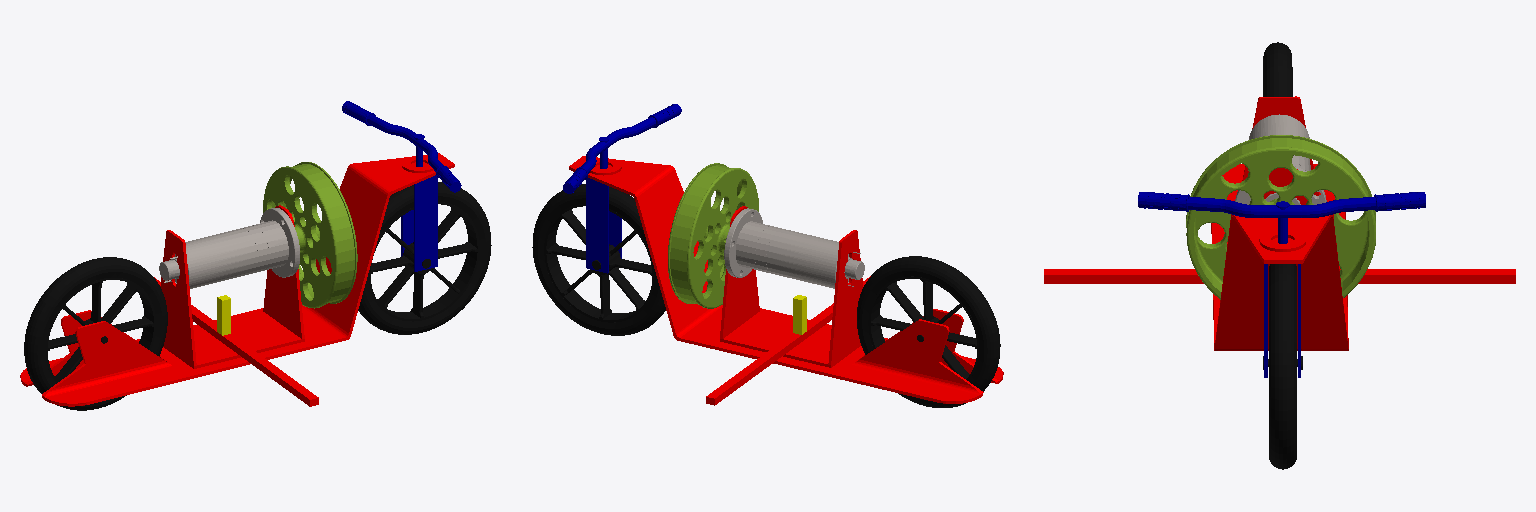
URDF robot description (bike):
<?xml version="1.0" encoding="utf-8"?>
<!-- This URDF was automatically created by SolidWorks to URDF Exporter! Originally created by [author] ([email redacted]) 
     Commit Version: 1.6.0-4-g7f85cfe  Build Version: 1.6.7995.38578
     For more information, please see http://wiki.ros.org/sw_urdf_exporter -->
<robot
  name="bike">
  <link name="base_footprint"/>
  <link
    name="base_link">
    <inertial>
      <origin
        xyz="0.0057072 9.0919E-05 0.020035"
        rpy="0 0 0" />
      <mass
        value="0.200" />
      <inertia
        ixx="0.00041675"
        ixy="-1.315E-05"
        ixz="-0.00030615"
        iyy="0.0016302"
        iyz="-2.99841E-06"
        izz="0.0016089" />
    </inertial>
    <visual>
      <origin
        xyz="0 0 0"
        rpy="0 0 0" />
      <geometry>
        <mesh
          filename="package://self_balancing_bike/meshes/base_link.STL" />
      </geometry>
      <material
        name="">
        <color
          rgba="1 0 0 1" />
      </material>
    </visual>
    <collision>
      <origin
        xyz="0 0 0"
        rpy="0 0 0" />
      <geometry>
        <mesh
          filename="package://self_balancing_bike/meshes/base_link.STL" />
      </geometry>
    </collision>
  </link>

  <joint
    name="base_footprint_joint"
    type="fixed">
    <origin
      xyz="0 0 0.0345"
      rpy="0 0 0" />
    <parent
      link="base_footprint" />
    <child
      link="base_link" />
  </joint>

  <link
    name="imu_link">
    <inertial>
      <origin
        xyz="-3.4694E-18 -1.6193E-05 -0.015"
        rpy="0 0 0" />
      <mass
        value="0.008832" />
      <inertia
        ixx="7.095E-07"
        ixy="-1.4027E-25"
        ixz="1.6502E-39"
        iyy="7.095E-07"
        iyz="1.697E-39"
        izz="9.4208E-08" />
    </inertial>
    <visual>
      <origin
        xyz="0 0 0"
        rpy="0 0 0" />
      <geometry>
        <mesh
          filename="package://self_balancing_bike/meshes/imu_link.STL" />
      </geometry>
      <material
        name="">
        <color
          rgba="0.9 0.9 0 1" />
      </material>
    </visual>
    <collision>
      <origin
        xyz="0 0 0"
        rpy="0 0 0" />
      <geometry>
        <mesh
          filename="package://self_balancing_bike/meshes/imu_link.STL" />
      </geometry>
    </collision>
  </link>
  <joint
    name="imu_joint"
    type="fixed">
    <origin
      xyz="0 0 0.036"
      rpy="0 0 0" />
    <parent
      link="base_link" />
    <child
      link="imu_link" />
    <axis
      xyz="0 0 0" />
  </joint>
  <link
    name="rear_wheel_link">
    <inertial>
      <origin
        xyz="5.7718E-14 6.0024E-13 -1.4024E-14"
        rpy="0 0 0" />
      <mass
        value="0.02475" />
      <inertia
        ixx="0.000028923"
        ixy="-1.546E-18"
        ixz="-3.4005E-16"
        iyy="0.000056923"
        iyz="-8.2688E-18"
        izz="0.000028923" />
    </inertial>
    <visual>
      <origin
        xyz="0 0 0"
        rpy="0 0 0" />
      <geometry>
        <mesh
          filename="package://self_balancing_bike/meshes/rear_wheel_link.STL" />
      </geometry>
      <material
        name="">
        <color
          rgba="0.1 0.1 0.1 1" />
      </material>
    </visual>
    <collision>
      <origin
        xyz="0 0 0"
        rpy="0 0 0" />
      <geometry>
        <mesh
          filename="package://self_balancing_bike/meshes/rear_wheel_link.STL" />
      </geometry>
    </collision>
  </link>
  <joint
    name="rear_wheel_joint"
    type="continuous">
    <origin
      xyz="-0.11568 -0.0010941 0.0325"
      rpy="0 0 0.0097934" />
    <parent
      link="base_link" />
    <child
      link="rear_wheel_link" />
    <axis
      xyz="0 1 0" />
    <limit
      effort="30"
      velocity="10.47" />
    <!-- <dynamics
      damping="0.0001"
      friction="0.0001" /> -->
  </joint>
  <link
    name="handle_link">
    <inertial>
      <origin
        xyz="-0.0050512 -0.00029793 -0.028916"
        rpy="0 0 0" />
      <mass
        value="0.050" />
      <inertia
        ixx="9.23294E-05"
        ixy="1.9030E-09"
        ixz="4.68467E-09"
        iyy="1.4955E-05"
        iyz="1.7224E-10"
        izz="8.0834E-05" />
    </inertial>
    <visual>
      <origin
        xyz="0 0 0"
        rpy="0 0 0" />
      <geometry>
        <mesh
          filename="package://self_balancing_bike/meshes/handle_link.STL" />
      </geometry>
      <material
        name="">
        <color
          rgba="0 0 0.65 1" />
      </material>
    </visual>
    <collision>
      <origin
        xyz="0 0 0"
        rpy="0 0 0" />
      <geometry>
        <mesh
          filename="package://self_balancing_bike/meshes/handle_link.STL" />
      </geometry>
    </collision>
  </link>
  <joint
    name="handle_joint"
    type="revolute">
    <origin
      xyz="0.17612 0.0017637 0.1325"
      rpy="0 0 0" />
    <parent
      link="base_link" />
    <child
      link="handle_link" />
    <axis
      xyz="0 0 -1" />
    <limit
      lower="-1.0472"
      upper="1.0472"
      effort="20"
      velocity="6.28" />
    <!-- <dynamics
      damping="0.0001"
      friction="0.0001" /> -->
  </joint>
  <link
    name="front_wheel_link">
    <inertial>
      <origin
        xyz="5.7593E-14 6.0145E-13 -1.4981E-14"
        rpy="0 0 0" />
      <mass
        value="0.024701" />
      <inertia
        ixx="0.000028917"
        ixy="-1.6813E-18"
        ixz="-3.4026E-16"
        iyy="0.000056923"
        iyz="-8.2388E-18"
        izz="0.000028917" />
    </inertial>
    <visual>
      <origin
        xyz="0 0 0"
        rpy="0 0 0" />
      <geometry>
        <mesh
          filename="package://self_balancing_bike/meshes/front_wheel_link.STL" />
      </geometry>
      <material
        name="">
        <color
          rgba="0.1 0.1 0.1 1" />
      </material>
    </visual>
    <collision>
      <origin
        xyz="0 0 0"
        rpy="0 0 0" />
      <geometry>
        <mesh
          filename="package://self_balancing_bike/meshes/front_wheel_link.STL" />
      </geometry>
    </collision>
  </link>
  <joint
    name="front_wheel_joint"
    type="continuous">
    <origin
      xyz="-0.00022305 -2.5562E-05 -0.1042"
      rpy="0 0 0" />
    <parent
      link="handle_link" />
    <child
      link="front_wheel_link" />
    <axis
      xyz="0 1 0" />
    <!-- <dynamics
      damping="0.00001"
      friction="0.00001" /> -->
  </joint>
  <link
    name="rw_motor_link">
    <inertial>
      <origin
        xyz="-0.012449 -0.00012011 1.0704E-06"
        rpy="0 0 0" />
      <mass
        value="0.025" />
      <inertia
        ixx="4.57925E-06"
        ixy="-1.82495E-07"
        ixz="5.497E-10"
        iyy="2.3277E-05"
        iyz="1.5319E-10"
        izz="2.3278E-05" />
    </inertial>
    <visual>
      <origin
        xyz="0 0 0"
        rpy="0 0 0" />
      <geometry>
        <mesh
          filename="package://self_balancing_bike/meshes/rw_motor_link.STL" />
      </geometry>
      <material
        name="">
        <color
          rgba="0.68627 0.65882 0.63922 1" />
      </material>
    </visual>
    <collision>
      <origin
        xyz="0 0 0"
        rpy="0 0 0" />
      <geometry>
        <mesh
          filename="package://self_balancing_bike/meshes/rw_motor_link.STL" />
      </geometry>
    </collision>
  </link>
  <joint
    name="rw_motor_joint"
    type="fixed">
    <origin
      xyz="0.0196 0.00023076 0.071352"
      rpy="0 0 0" />
    <parent
      link="base_link" />
    <child
      link="rw_motor_link" />
    <axis
      xyz="0 0 0" />
  </joint>
  <link
    name="rw_link">
    <inertial>
      <origin
        xyz="0.005098 4.471E-05 -1.9127E-06"
        rpy="0 0 0" />
      <mass
        value="0.750" />
      <inertia
        ixx="0.0013755"
        ixy="6.44742E-06"
        ixz="-1.61667E-08"
        iyy="0.00071278"
        iyz="9.52164E-09"
        izz="0.00071271" />
    </inertial>
    <visual>
      <origin
        xyz="0 0 0"
        rpy="0 0 0" />
      <geometry>
        <mesh
          filename="package://self_balancing_bike/meshes/rw_link.STL" />
      </geometry>
      <material
        name="">
        <color
          rgba="0.5 0.65 0.2 1" />
      </material>
    </visual>
    <collision>
      <origin
        xyz="0 0 0"
        rpy="0 0 0" />
      <geometry>
        <mesh
          filename="package://self_balancing_bike/meshes/rw_link.STL" />
      </geometry>
    </collision>
  </link>
  <joint
    name="rw_joint"
    type="continuous">
    <origin
      xyz="0.047915 0.00046926 0"
      rpy="0 0 0" />
    <parent
      link="rw_motor_link" />
    <child
      link="rw_link" />
    <axis
      xyz="0.99995 0.0097932 0" />
    <limit
      effort="1000"
      velocity="500" />
    <!-- <dynamics
      damping="0.00001"
      friction="0.00004" /> -->
  </joint>

  <!-- Specifying Material properties for model links -->
  <gazebo reference="base_link">
    <!-- <material>Gazebo/Wood</material> -->
      <!-- <mu1>0.5</mu1>
      <mu2>0.5</mu2>
      <kp>1e5</kp>
      <kd>1e5</kd> -->
    <selfCollide>true</selfCollide>
  </gazebo>

  <gazebo reference="handle_link">
    <material>Gazebo/Black</material>
      <!-- <mu1>0.5</mu1>
      <mu2>0.5</mu2>
      <kp>1e5</kp>
      <kd>1e5</kd> -->
    <selfCollide>true</selfCollide>
  </gazebo>

  <gazebo reference="rw_motor_link">
    <material>Gazebo/Gold</material>
      <!-- <mu1>0.5</mu1>
      <mu2>0.5</mu2>
      <kp>1e5</kp>
      <kd>1e5</kd> -->
    <selfCollide>true</selfCollide>
  </gazebo>

  <gazebo reference="rw_link">
    <material>Gazebo/Residential</material>
      <!-- <mu1>0.5</mu1>
      <mu2>0.5</mu2>
      <kp>1e5</kp>
      <kd>1e5</kd> -->
    <selfCollide>true</selfCollide>
  </gazebo>

  <gazebo reference="rear_wheel_link">
    <material>Gazebo/Grey</material>
      <!-- <mu1>0.5</mu1>
      <mu2>0.5</mu2>
      <kp>1e5</kp>
      <kd>1e5</kd> -->
    <selfCollide>true</selfCollide>
  </gazebo>

  <gazebo reference="front_wheel_link">
    <material>Gazebo/Grey</material>
      <!-- <mu1>0.5</mu1>
      <mu2>0.5</mu2>
      <kp>1e5</kp>
      <kd>1e5</kd> -->
    <selfCollide>true</selfCollide>
  </gazebo>

  <gazebo reference="imu_link">
    <material>Gazebo/Residential</material>
      <!-- <mu1>0.5</mu1>
      <mu2>0.5</mu2>
      <kp>1e5</kp>
      <kd>1e5</kd> -->
    <selfCollide>true</selfCollide>
  </gazebo>

  <!-- Specifying the Tranmission controllers for various joints -->
  <transmission name="rear_wheel_transmission">
      <type>transmission_interface/SimpleTransmission</type>
      <joint name="rear_wheel_joint">
        <hardwareInterface>hardware_interface/VelocityJointInterface</hardwareInterface>
      </joint>
      <actuator name="rear_wheel_motor">
        <hardwareInterface>hardware_interface/VelocityJointInterface</hardwareInterface>
        <mechanicalReduction>1</mechanicalReduction>
      </actuator>
  </transmission>

  <transmission name="rw_transmission">
      <type>transmission_interface/SimpleTransmission</type>
      <joint name="rw_joint">
        <hardwareInterface>hardware_interface/VelocityJointInterface</hardwareInterface>
      </joint>
      <actuator name="rw_motor">
        <hardwareInterface>hardware_interface/VelocityJointInterface</hardwareInterface>
        <mechanicalReduction>1</mechanicalReduction>
      </actuator>
  </transmission>

  <transmission name="handle_transmission">
      <type>transmission_interface/SimpleTransmission</type>
      <joint name="handle_joint">
        <hardwareInterface>hardware_interface/EffortJointInterface</hardwareInterface>
      </joint>
      <actuator name="handle_motor">
        <hardwareInterface>hardware_interface/EffortJointInterface</hardwareInterface>
        <mechanicalReduction>1</mechanicalReduction>
      </actuator>
  </transmission>

  <!-- Specifying Lidar and IMU sensors -->
  <gazebo reference="imu_link">
    <sensor type="imu" name="imu">
      <always_on>true</always_on>
      <visualize>true</visualize>
    </sensor>
    <material>Gazebo/FlatBlack</material>
  </gazebo>

  <gazebo>
    <plugin name="imu_plugin" filename="libgazebo_ros_imu.so">
      <alwaysOn>true</alwaysOn>
      <bodyName>imu_link</bodyName>
      <frameName>imu_link</frameName>
      <topicName>imu</topicName>
      <serviceName>imu_service</serviceName>
      <gaussianNoise>0.0</gaussianNoise>
      <updateRate>0</updateRate>
      <imu>
        <noise>
          <type>gaussian</type>
          <rate>
            <mean>0.0</mean>
            <stddev>2e-4</stddev>
            <bias_mean>0.0000075</bias_mean>
            <bias_stddev>0.0000008</bias_stddev>
          </rate>
          <accel>
            <mean>0.0</mean>
            <stddev>1.7e-2</stddev>
            <bias_mean>0.1</bias_mean>
            <bias_stddev>0.001</bias_stddev>
          </accel>
        </noise>
      </imu>
    </plugin>
  </gazebo>

  <link name="lidar_link">
    <visual>
      <origin xyz="0 0 0.0" rpy="0 0 0"/>
      <geometry>
        <mesh filename="package://self_balancing_bike/meshes/lidar_link.stl" scale="10e-5 10e-5 10e-5"/>
      </geometry>
    </visual>

    <collision>
      <origin xyz="0.00015 0 -0.000065" rpy="0 0 0"/>
      <geometry>
        <cylinder length="0.000315" radius="0.00055"/>
      </geometry>
    </collision>

    <inertial>
      <mass value="0.00114" />
      <origin xyz="0 0 0" />
      <inertia ixx="0.00001" ixy="0.0" ixz="0.0"
               iyy="0.00001" iyz="0.0"
               izz="0.00001" />
    </inertial>
  </link>

  <joint name="lidar_joint" type="fixed">
    <parent link="base_link"/>
    <child link="lidar_link"/>
    <origin xyz="0.194 0.0025 0.1105" rpy="0 0 0"/>
  </joint>

  <gazebo reference="lidar_link">
    <material>Gazebo/FlatBlack</material>
    <sensor type="ray" name="lds_lfcd_sensor">
      <pose>0 0 0 0 0 0</pose>
      <visualize>false</visualize>
      <update_rate>5</update_rate>
      <ray>
        <scan>
          <horizontal>
            <samples>180</samples>
            <resolution>1</resolution>
            <min_angle>-1.57</min_angle>
            <max_angle>1.57</max_angle>
          </horizontal>
        </scan>
        <range>
          <min>0.05</min>
          <max>10</max>
          <resolution>0.015</resolution>
        </range>
        <noise>
          <type>gaussian</type>
          <mean>0.0</mean>
          <stddev>0.01</stddev>
        </noise>
      </ray>
      <plugin name="gazebo_ros_lds_lfcd_controller" filename="libgazebo_ros_laser.so">
        <topicName>scan</topicName>
        <frameName>lidar_link</frameName>
      </plugin>
    </sensor>
  </gazebo>


  <!-- ROS-Gazebo Controller Plugin -->
  <gazebo>
	  <plugin name="gazebo_ros_control" filename="libgazebo_ros_control.so">
	    <robotNamespace>/bike</robotNamespace>
      <!-- <robotSimType>gazebo_ros_control/DefaultRobotHWSim</robotSimType> -->
	  </plugin>
	</gazebo>


</robot>

--- Render facts (derived) ---
Views: 3 orthographic renders of the robot side by side, from view 1: azimuth 30°, elevation 25°; view 2: azimuth 150°, elevation 25°; view 3: azimuth 270°, elevation 25°.
Robot: bike — 9 links, 8 joints (1 revolute, 3 continuous, 4 fixed); root link base_footprint; default pose: every joint at zero.
Links seen in each view (by area): view 1: base_link, front_wheel_link, rear_wheel_link, rw_link, rw_motor_link, handle_link, imu_link; view 2: base_link, front_wheel_link, rear_wheel_link, rw_link, rw_motor_link, handle_link, imu_link; view 3: base_link, rw_link, front_wheel_link, handle_link, rw_motor_link, rear_wheel_link.
Boxes of the visible links, x1,y1,x2,y2 form: base_link: [20, 153, 454, 406]; front_wheel_link: [358, 182, 491, 334]; rear_wheel_link: [24, 257, 167, 410]; rw_link: [263, 162, 357, 308]; rw_motor_link: [159, 208, 299, 288]; handle_link: [342, 101, 461, 271]; imu_link: [217, 295, 230, 335]; base_link: [569, 156, 1003, 405]; front_wheel_link: [532, 184, 665, 335]; rear_wheel_link: [857, 256, 1000, 407]; rw_link: [668, 163, 758, 308]; rw_motor_link: [724, 208, 864, 288]; handle_link: [563, 104, 681, 273]; imu_link: [793, 295, 806, 334]; base_link: [1044, 96, 1515, 350]; rw_link: [1186, 135, 1375, 299]; front_wheel_link: [1263, 264, 1302, 469]; handle_link: [1138, 192, 1425, 377]; rw_motor_link: [1235, 114, 1326, 204]; rear_wheel_link: [1263, 42, 1292, 96].
Bounding box of the posed robot: 0.4185 × 0.28 × 0.1682 m (x, y, z).
7 mesh visuals loaded from 8 distinct referenced files (7 binary STL); not drawn: 1 (reference not matched to a file when rendering).
